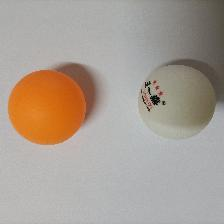WhiteBall: (137, 64, 216, 141)
YellowBall: (7, 68, 86, 146)
